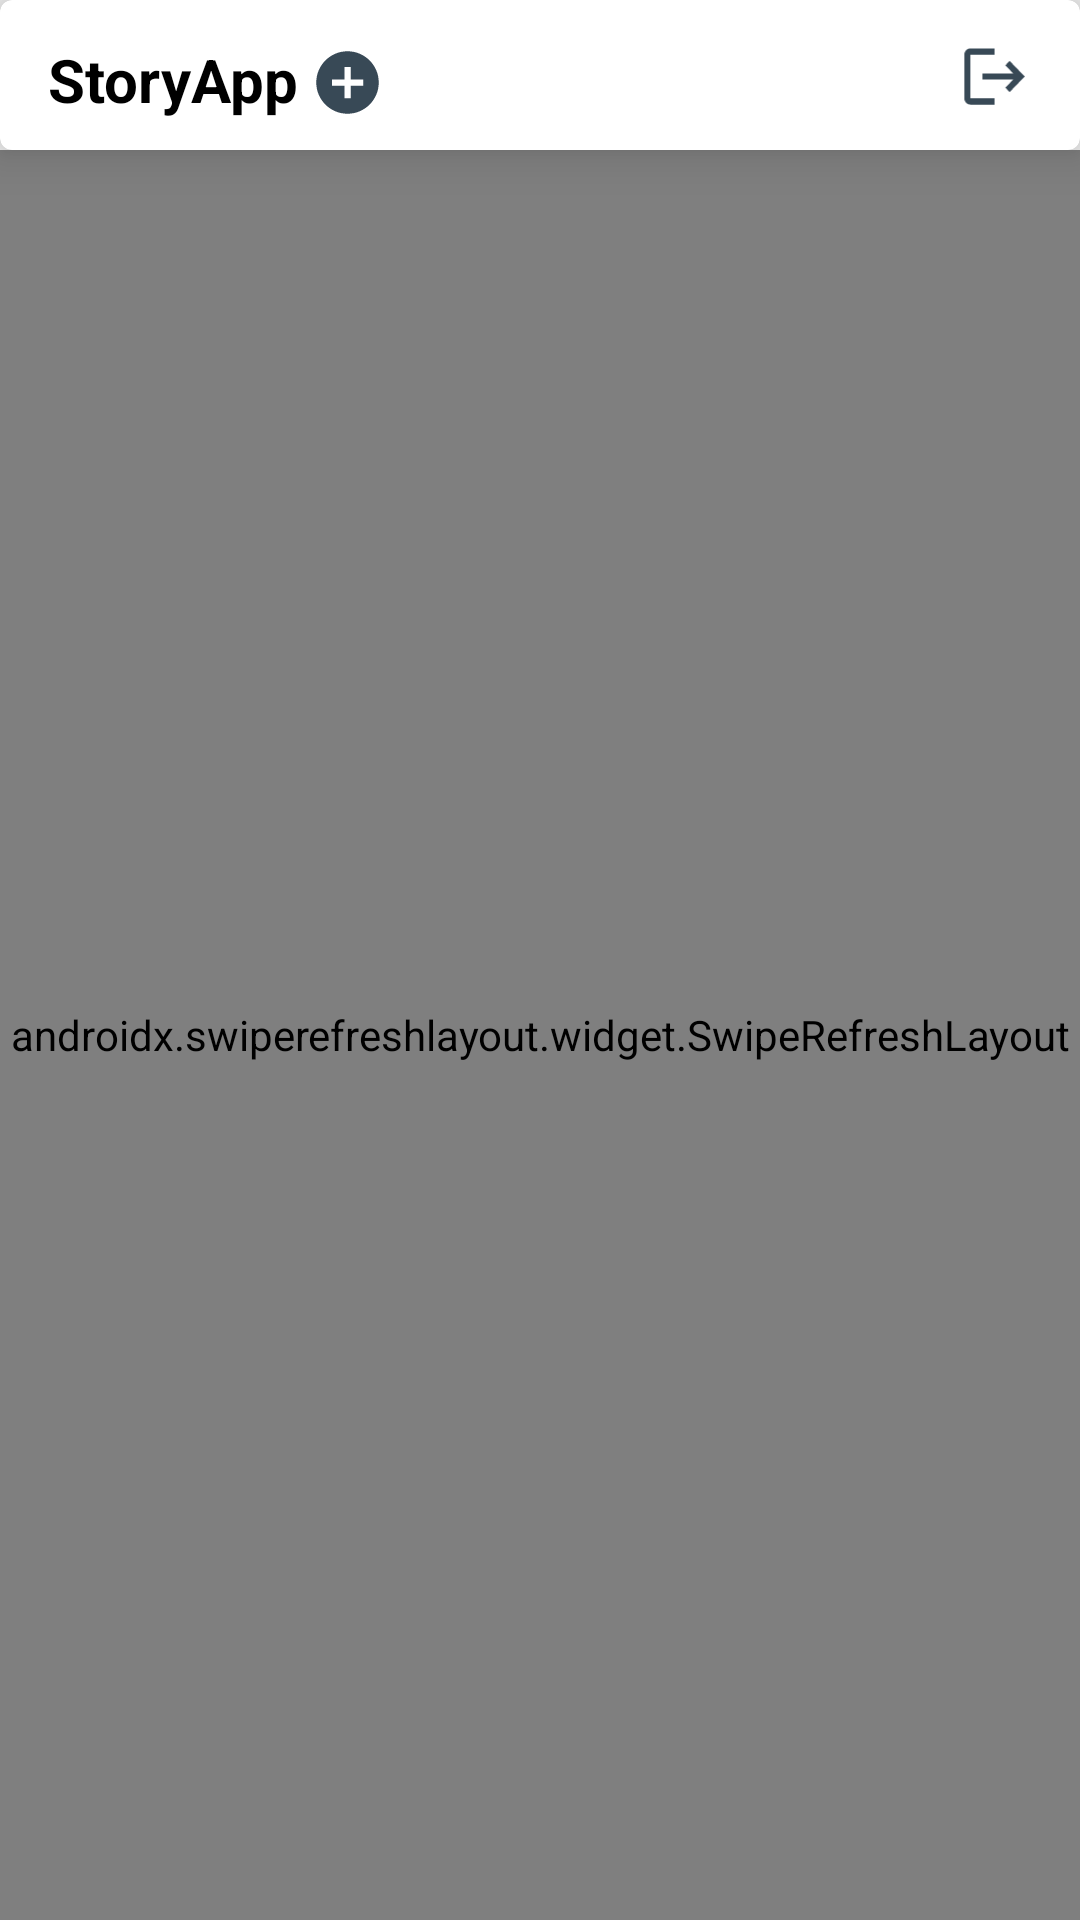

Icons on this 1080px×1920px Android screen, each with the point to tap as (x=x, y=y):
add story: (x=347, y=82)
